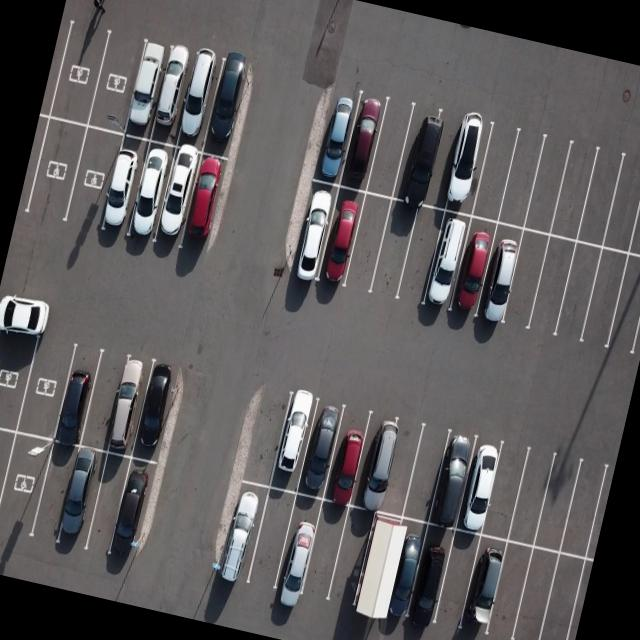car: (362, 516, 429, 633), (270, 492, 327, 606), (402, 521, 461, 629), (214, 481, 270, 593), (106, 457, 162, 569), (178, 150, 237, 256), (92, 130, 148, 241), (314, 185, 371, 294), (0, 428, 56, 538), (458, 530, 515, 638), (47, 342, 104, 450), (53, 446, 111, 552), (390, 102, 449, 206), (124, 138, 180, 247), (443, 213, 499, 321), (472, 220, 528, 328), (150, 143, 204, 252), (449, 434, 506, 536), (424, 430, 482, 530), (419, 208, 473, 314), (290, 178, 342, 288), (320, 405, 376, 506), (100, 354, 154, 458), (438, 118, 493, 220), (130, 361, 184, 464), (351, 413, 406, 514), (338, 92, 392, 194), (381, 522, 433, 626), (294, 398, 348, 498), (171, 48, 223, 151), (270, 392, 324, 491), (202, 58, 253, 158), (120, 39, 170, 140), (314, 88, 362, 188), (150, 43, 198, 142)
free: (14, 326, 81, 442), (61, 122, 126, 236), (24, 115, 87, 226), (48, 11, 109, 123), (424, 528, 485, 638), (243, 486, 301, 600), (346, 511, 404, 622), (87, 28, 147, 135), (78, 348, 138, 454), (478, 539, 538, 640), (295, 500, 351, 608), (528, 451, 584, 556), (503, 444, 560, 547), (80, 452, 134, 560), (557, 457, 613, 561), (526, 233, 581, 338), (479, 441, 535, 544), (26, 439, 80, 545), (576, 244, 630, 350), (550, 241, 604, 346), (396, 423, 452, 524), (237, 387, 293, 488), (498, 228, 552, 332), (503, 545, 562, 640), (395, 205, 450, 306), (342, 192, 395, 296), (364, 96, 418, 198), (367, 196, 420, 297), (324, 507, 376, 609), (533, 551, 592, 640), (466, 124, 518, 224), (496, 130, 548, 229), (520, 136, 572, 235), (374, 419, 426, 518), (574, 150, 626, 248), (550, 144, 601, 242), (0, 310, 40, 433), (418, 114, 466, 215), (598, 152, 640, 252), (606, 252, 640, 360), (0, 422, 15, 533), (627, 159, 640, 259)
